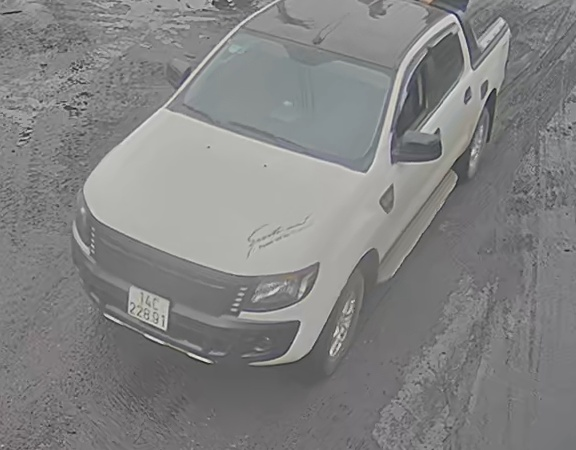vehicle plate: (124, 281, 168, 328)
